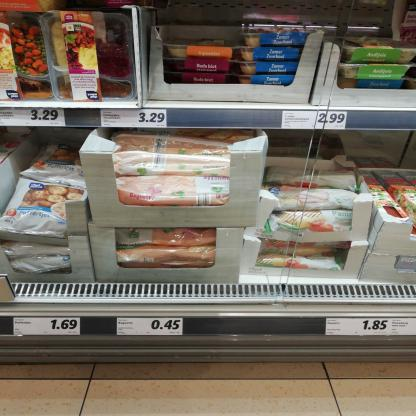prtg: (102, 109, 168, 129), (1, 108, 67, 127), (282, 112, 348, 131), (15, 318, 82, 336), (118, 318, 184, 336), (326, 319, 392, 336), (391, 319, 416, 336)
